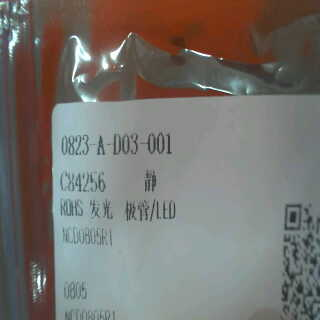LED: (85, 195, 184, 224)
